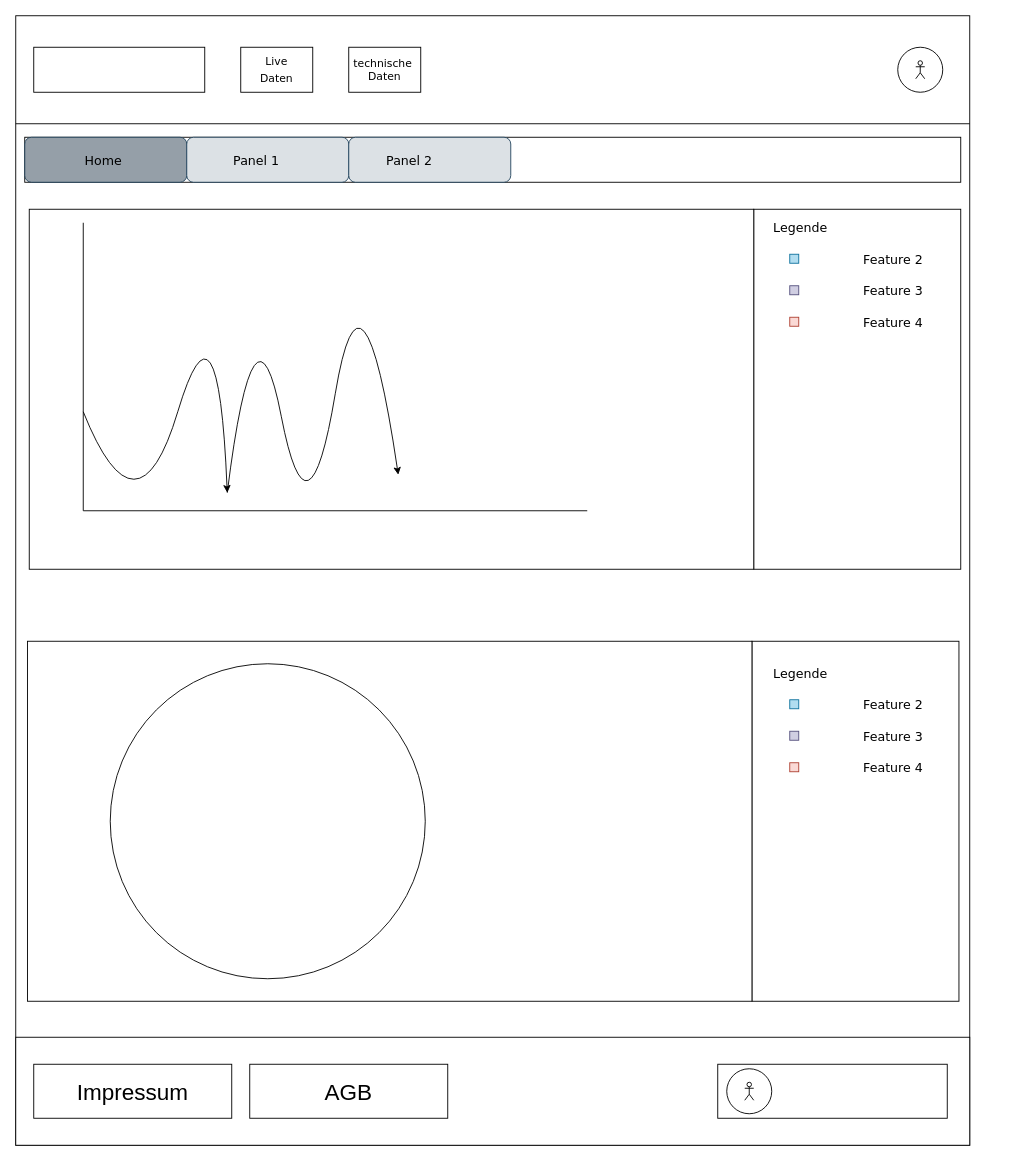
This 1031x1161 diagram has some shape labels left out. Each missing label, with the box of its shape:
Ansprechpartner: (717, 1063, 947, 1118)
LOGO: (33, 46, 205, 92)
x KWH: (109, 663, 425, 979)
